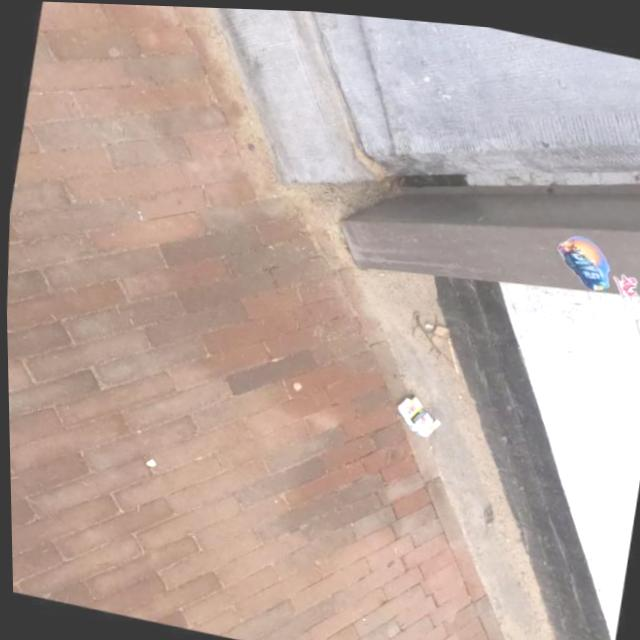Paper: (392, 389, 441, 436)
